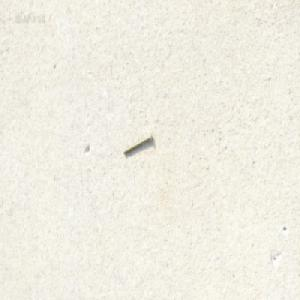Bolt: (122, 132, 152, 155)
